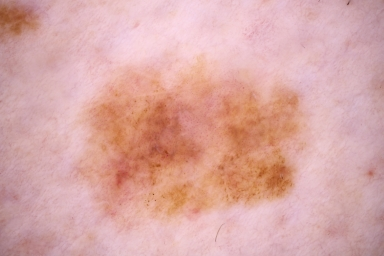melanoma: (78, 67, 301, 220), (1, 1, 46, 38)
